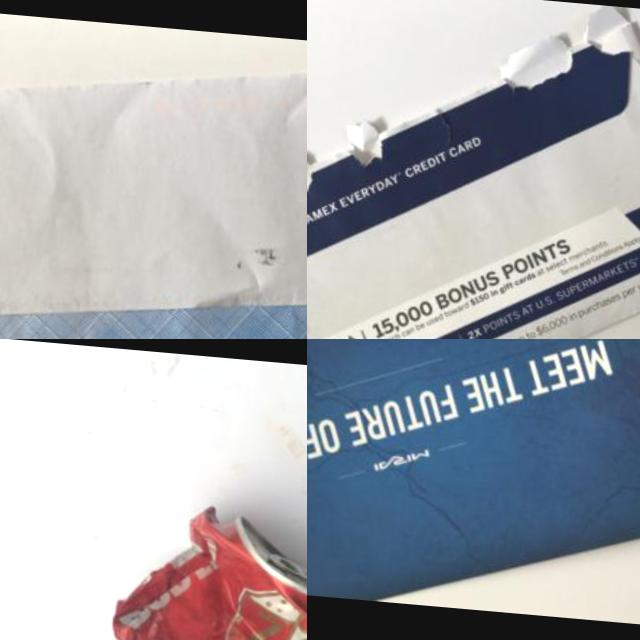aba de lata: (226, 513, 307, 607)
lata: (99, 495, 307, 640)
papel: (307, 0, 640, 339), (0, 14, 307, 339), (307, 339, 640, 631)
